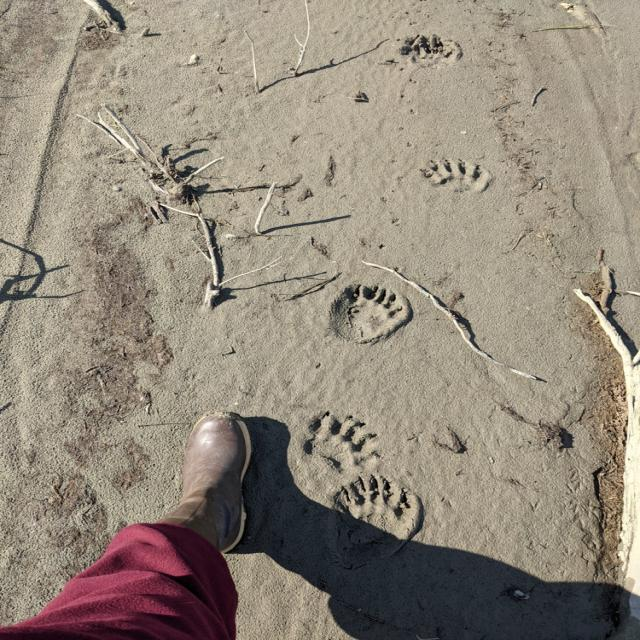bear: (331, 479, 418, 553), (305, 405, 379, 471), (333, 282, 404, 343), (418, 158, 495, 197)
